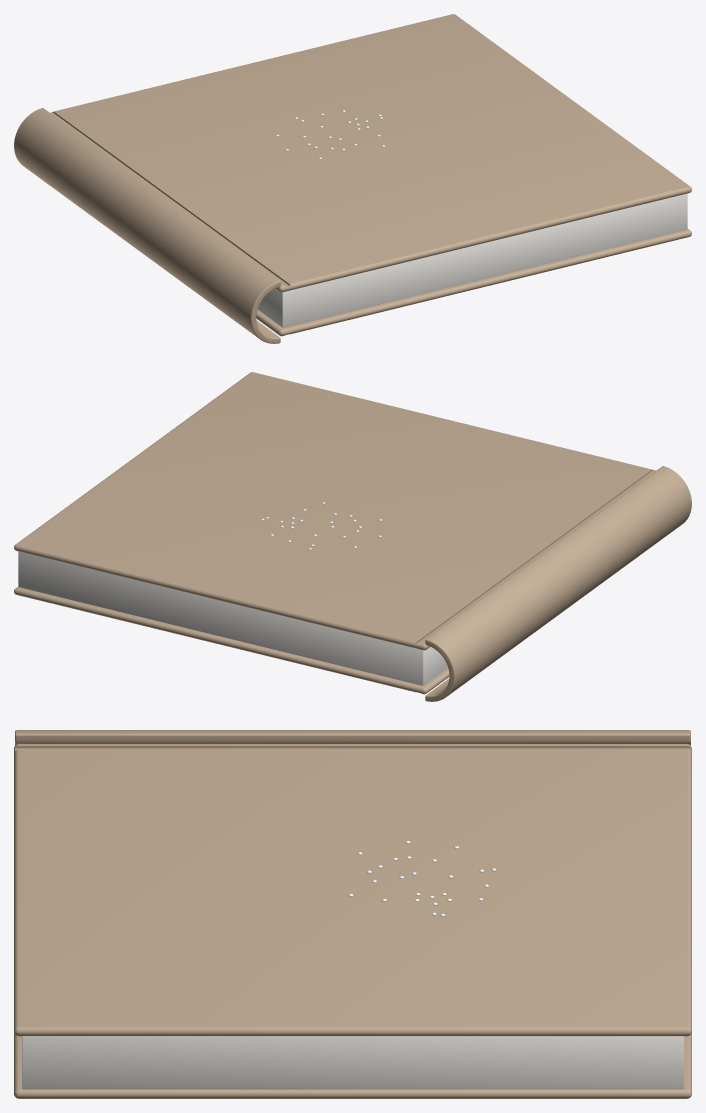
Rendered from swarovski-cluster--square.glb.
The picture shows the model from 3 angles, top to bottom: view 1: azimuth 30°, elevation 25°; view 2: azimuth 150°, elevation 25°; view 3: azimuth 270°, elevation 25°; orthographic projection. The views are drawn at different scales.
Visible parts, largest first — view 1: CoverFront, Spine, Pages, CoverBack; view 2: CoverFront, Spine, Pages, CoverBack; view 3: CoverFront, Pages, Spine, CoverBack.
Boxes of the visible parts, <box> form: CoverFront: <box>50,14,691,292</box>; Spine: <box>14,108,280,343</box>; Pages: <box>258,193,687,327</box>; CoverBack: <box>256,229,691,336</box>; CoverFront: <box>14,372,655,650</box>; Spine: <box>425,466,691,701</box>; Pages: <box>18,551,447,685</box>; CoverBack: <box>14,587,449,694</box>; CoverFront: <box>14,744,691,1036</box>; Pages: <box>22,1036,683,1089</box>; Spine: <box>15,730,690,745</box>; CoverBack: <box>14,1033,691,1098</box>.
Size of the model in its own units: 0.3208 by 0.043 by 0.3.
